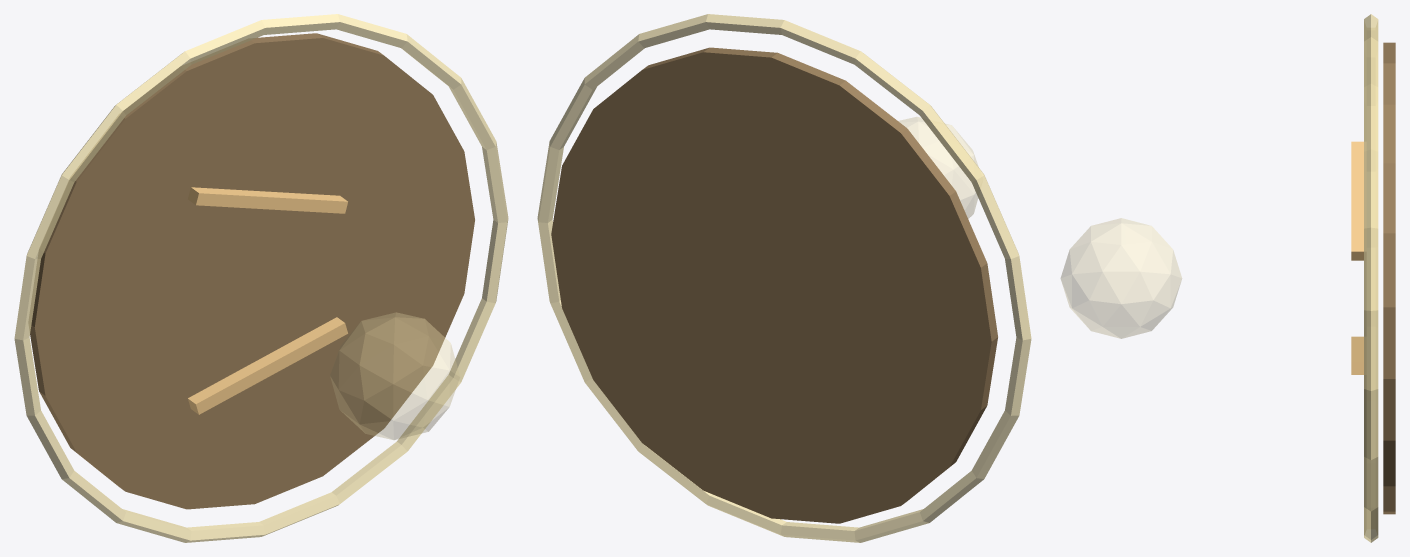
File: 07_weather_terrain_nature_effect.glb
The picture shows the model from 3 angles, left to right: view 1: azimuth 30°, elevation 25°; view 2: azimuth 150°, elevation 25°; view 3: azimuth 270°, elevation 25°; orthographic projection. The views are drawn at different scales.
Visible parts, largest first — view 1: terrain_patch, weather_boundary, weather_orb, terrain_marker_a, terrain_marker_b; view 2: terrain_patch, weather_boundary, weather_orb; view 3: weather_orb, weather_boundary, terrain_patch, terrain_marker_b, terrain_marker_a.
Boxes of the visible parts, x1=… form: terrain_patch: x1=29, y1=33, x2=474, y2=509; weather_boundary: x1=14, y1=14, x2=508, y2=542; weather_orb: x1=330, y1=312, x2=459, y2=439; terrain_marker_a: x1=188, y1=317, x2=347, y2=414; terrain_marker_b: x1=188, y1=187, x2=347, y2=213; terrain_patch: x1=551, y1=47, x2=997, y2=523; weather_boundary: x1=537, y1=14, x2=1031, y2=542; weather_orb: x1=898, y1=117, x2=978, y2=218; weather_orb: x1=1060, y1=218, x2=1181, y2=338; weather_boundary: x1=1364, y1=14, x2=1378, y2=542; terrain_patch: x1=1383, y1=42, x2=1395, y2=514; terrain_marker_b: x1=1351, y1=141, x2=1365, y2=260; terrain_marker_a: x1=1351, y1=336, x2=1365, y2=374.
Size of the model in its own units: 1.75 by 1.75 by 1.1.
